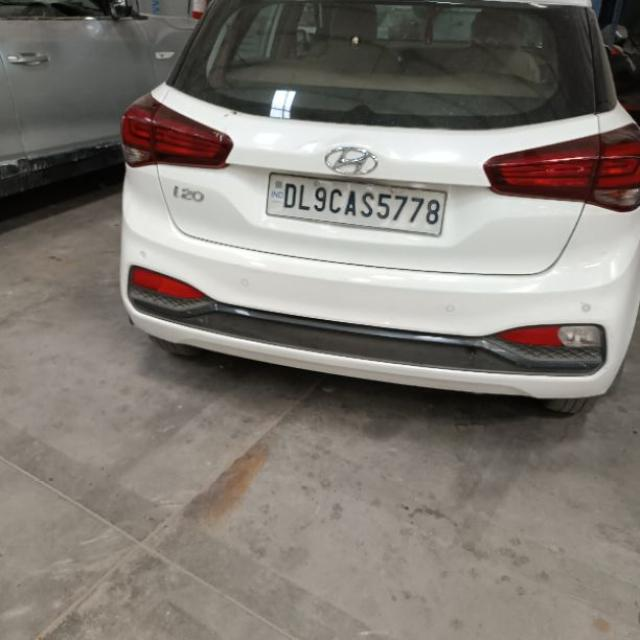license_plate: (264, 170, 446, 237)
